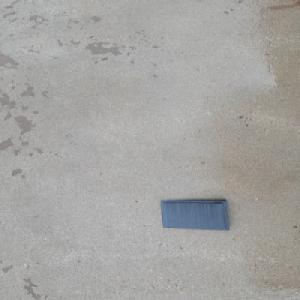PlasticPart: (159, 199, 231, 230)
